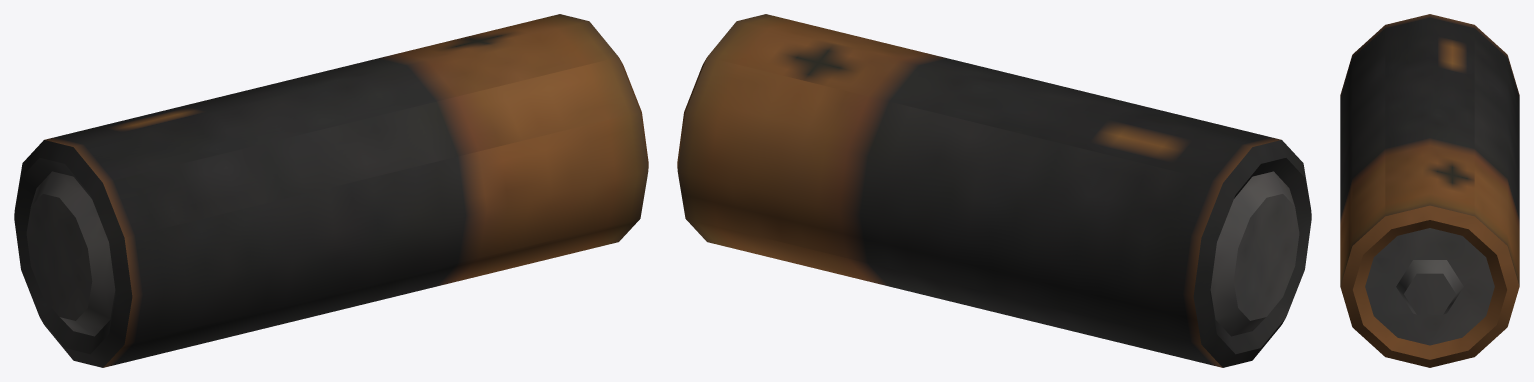
The model's file is battery_mp_1.dae.
3 views of the same model, side by side, from view 1: azimuth 30°, elevation 25°; view 2: azimuth 150°, elevation 25°; view 3: azimuth 270°, elevation 25° (orthographic). The views are drawn at different scales.
Visible parts, largest first — view 1: battery_mp_1; view 2: battery_mp_1; view 3: battery_mp_1.
Boxes of the visible parts, x1,y1,x2,y2 form: battery_mp_1: (14, 14, 648, 367); battery_mp_1: (677, 14, 1311, 367); battery_mp_1: (1340, 14, 1519, 367).
Size of the model in its own units: 0.097 by 0.036 by 0.036.
Materials: 1 (1 with a texture image).
